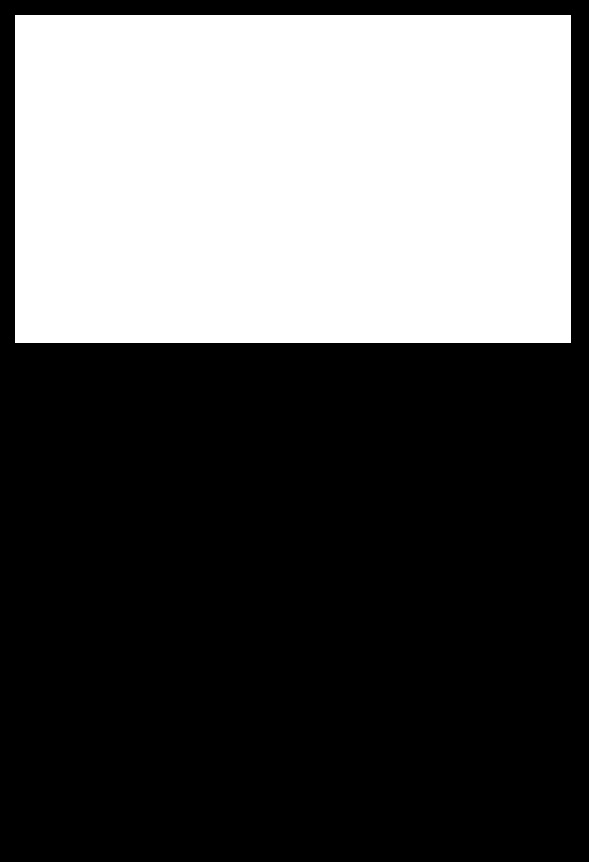table: (15, 15, 570, 342)
